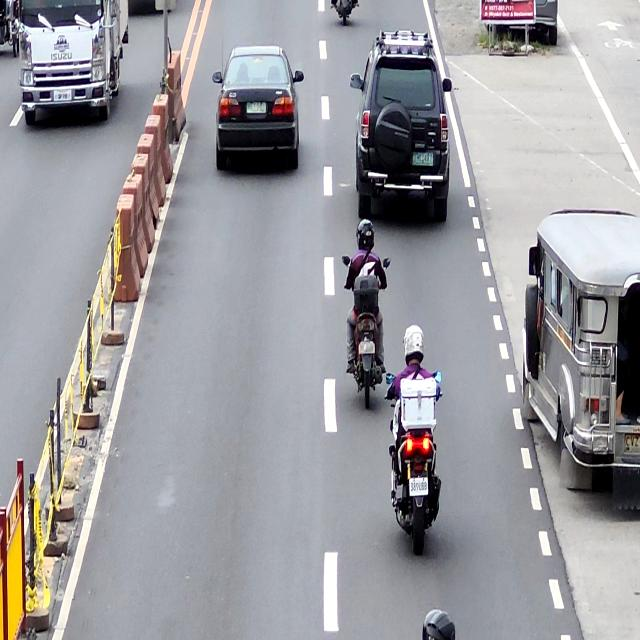Car: (352, 30, 452, 221), (213, 43, 303, 176)
Jeep: (521, 210, 640, 485)
License-Plate: (409, 478, 428, 497), (358, 340, 376, 356), (246, 101, 266, 115), (414, 153, 434, 165)
Motorcycle: (386, 368, 443, 554), (342, 254, 390, 410)
